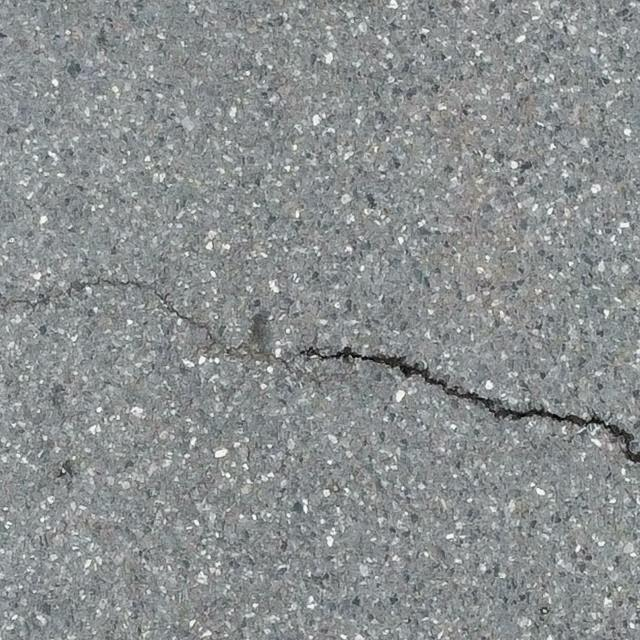TransverseCrack: (1, 279, 640, 466)
